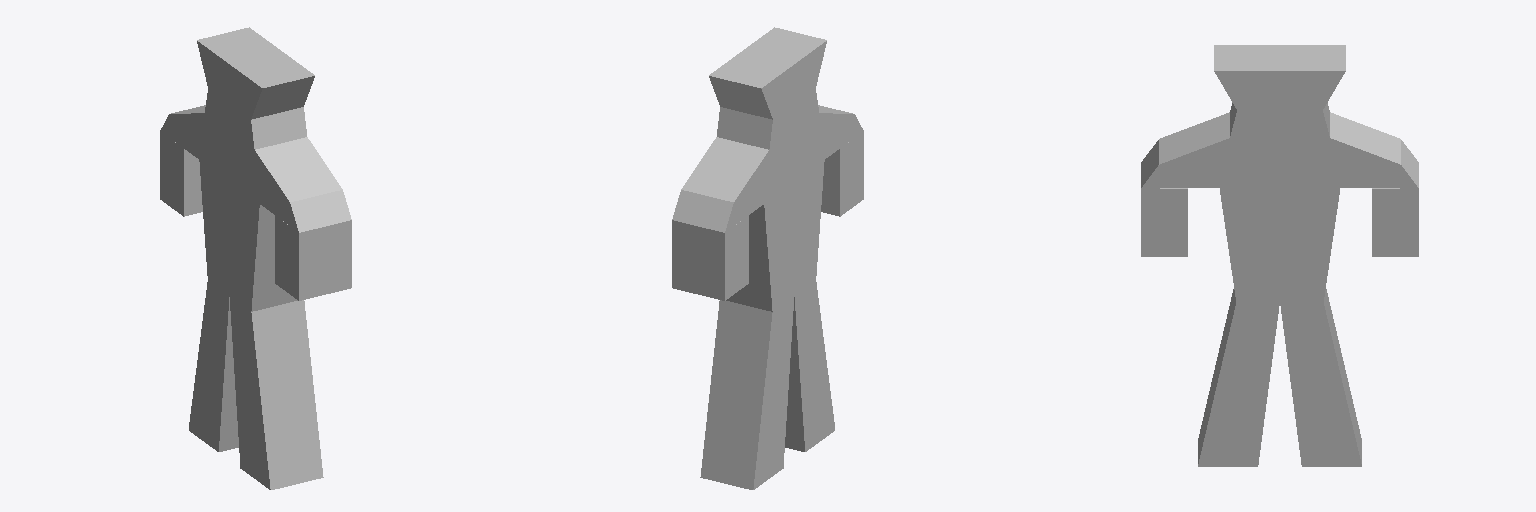
The model's file is man4.obj.
3 views of the same model, side by side, from view 1: azimuth 30°, elevation 25°; view 2: azimuth 150°, elevation 25°; view 3: azimuth 270°, elevation 25° (orthographic).
Parts seen in each view (by area): view 1: Cube; view 2: Cube; view 3: Cube.
Boxes of the visible parts, x1=… form: Cube: x1=160, y1=27, x2=351, y2=489; Cube: x1=672, y1=27, x2=863, y2=489; Cube: x1=1141, y1=45, x2=1418, y2=466.
Bounding box in the file's own units: 1.01 × 7.22 × 4.6.